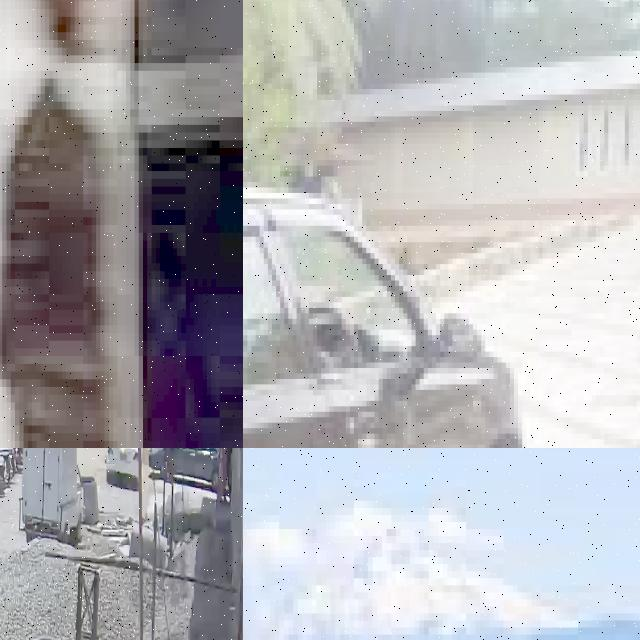bike: (0, 248, 134, 448)
car: (243, 182, 526, 448), (148, 448, 218, 486), (105, 448, 139, 480)
